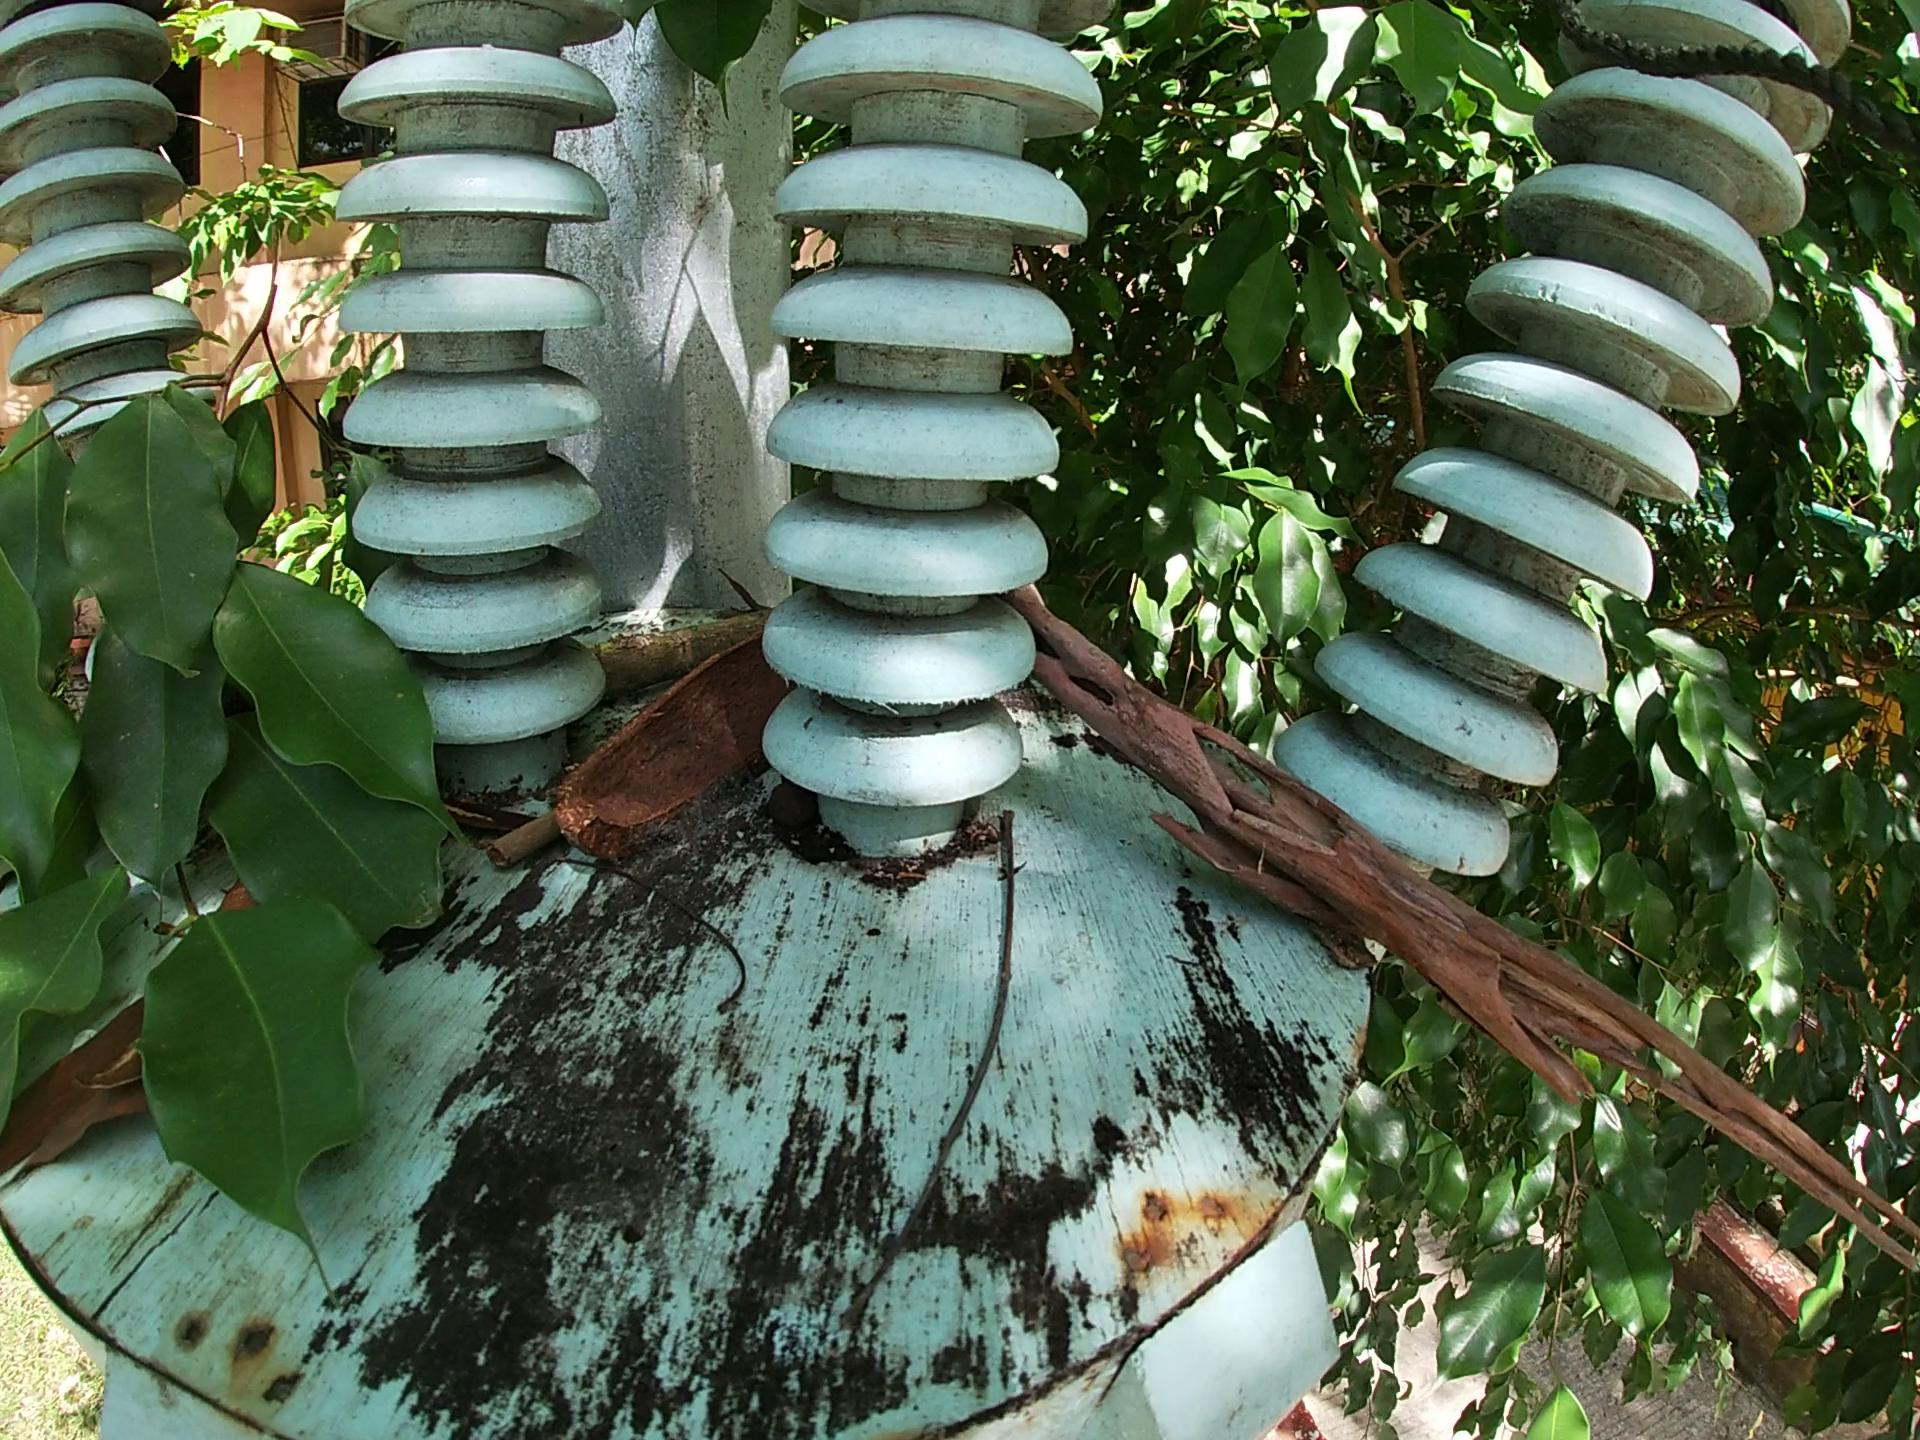branch with leaves: (2, 234, 475, 1319)
leaf: (14, 1069, 141, 1187), (209, 877, 252, 917)
mahogany fruit: (543, 640, 791, 846), (2, 1009, 141, 1154)
tree branch: (989, 579, 1920, 1262), (878, 800, 1045, 1246), (553, 859, 766, 1021), (585, 617, 745, 684), (472, 821, 568, 877)
